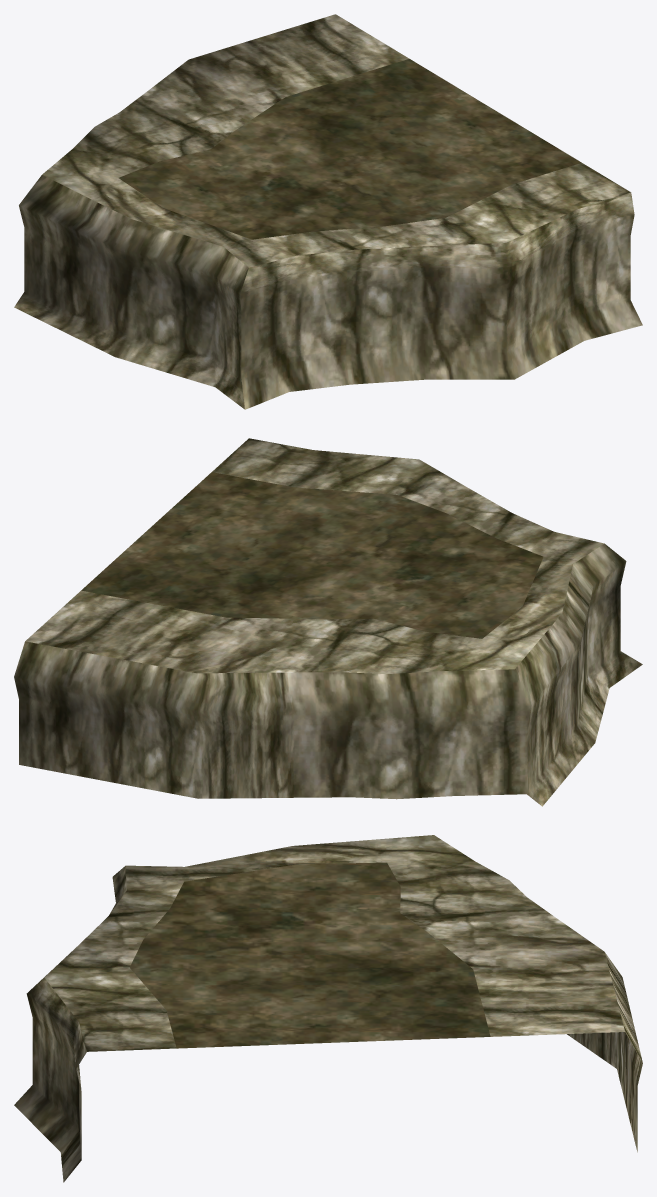
Rendered from CB_NEWPLAYSURFACE_CB_PLAYSURFACE143.fbx.
The picture shows the model from 3 angles, top to bottom: view 1: azimuth 30°, elevation 25°; view 2: azimuth 150°, elevation 25°; view 3: azimuth 270°, elevation 25°; orthographic projection. The views are drawn at different scales.
Parts seen in each view (by area): view 1: CB_NEWPLAYSURFACE_CB_PLAYSURFACE143; view 2: CB_NEWPLAYSURFACE_CB_PLAYSURFACE143; view 3: CB_NEWPLAYSURFACE_CB_PLAYSURFACE143.
Boxes of the visible parts, <box> form: CB_NEWPLAYSURFACE_CB_PLAYSURFACE143: <box>14,14,642,409</box>; CB_NEWPLAYSURFACE_CB_PLAYSURFACE143: <box>14,438,642,806</box>; CB_NEWPLAYSURFACE_CB_PLAYSURFACE143: <box>14,835,642,1182</box>.
Bounding box in the file's own units: 129195 × 34545 × 148568.
3 materials, 3 textured.
